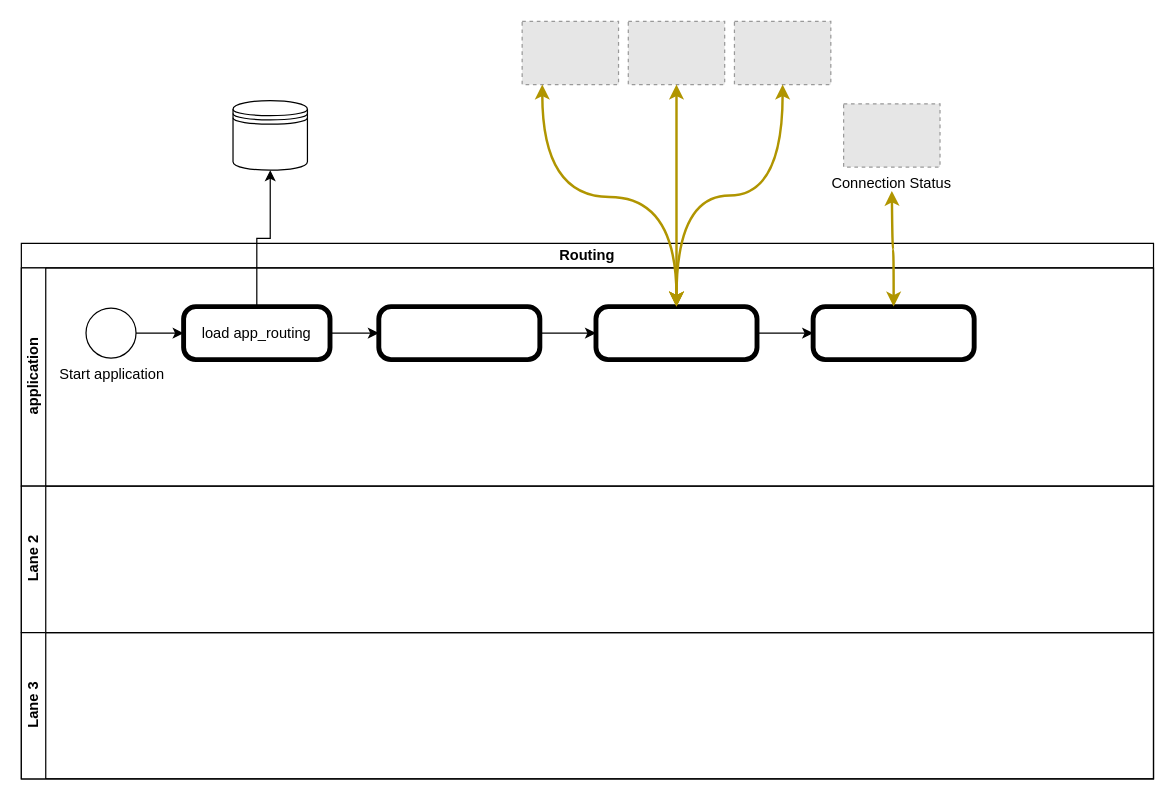
Image size: 1175x800. Some labels were removed from this diagram. Grey dashed boxes stand in for pictures. The box of each missing label's shape, as (x1, y1, x2, y2) in pixels:
getVotedCluster: (812, 305, 974, 360)
load app_routing_info: (378, 305, 540, 360)
selfVotedCluster: (595, 305, 757, 360)
